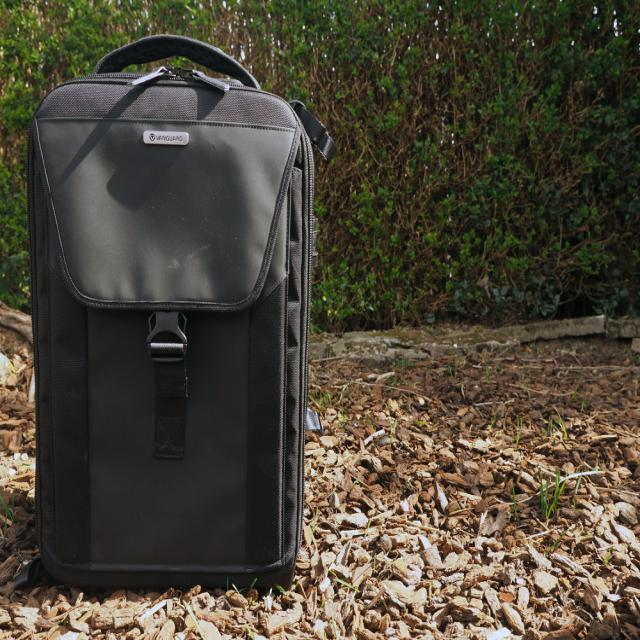Backpacks: (25, 27, 316, 586)
